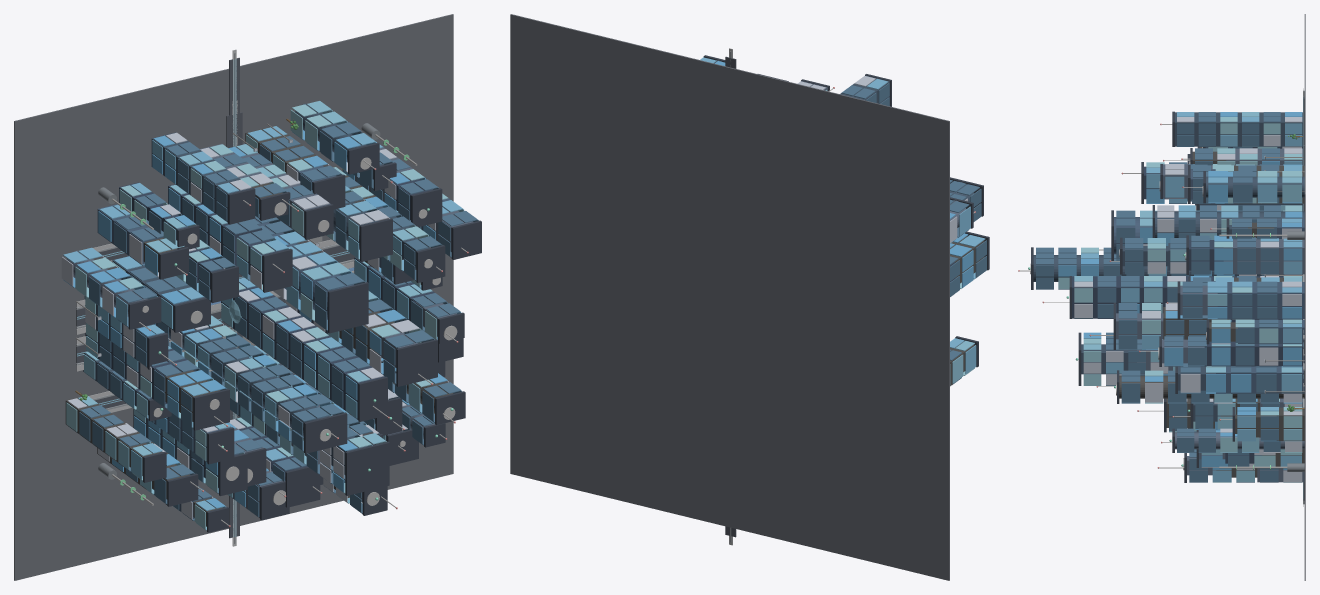
The model's file is city_scene.glb.
3 views of the same model, side by side, from view 1: azimuth 30°, elevation 25°; view 2: azimuth 150°, elevation 25°; view 3: azimuth 270°, elevation 25° (orthographic). The views are drawn at different scales.
Visible parts, largest first — view 1: world; view 2: world; view 3: world.
Part boxes in pixels (x1,y1,x2,y2): world: (14,14,481,580); world: (510,14,989,580); world: (1018,14,1305,580).
Size of the model in its own units: 50 by 54 by 33.71.
